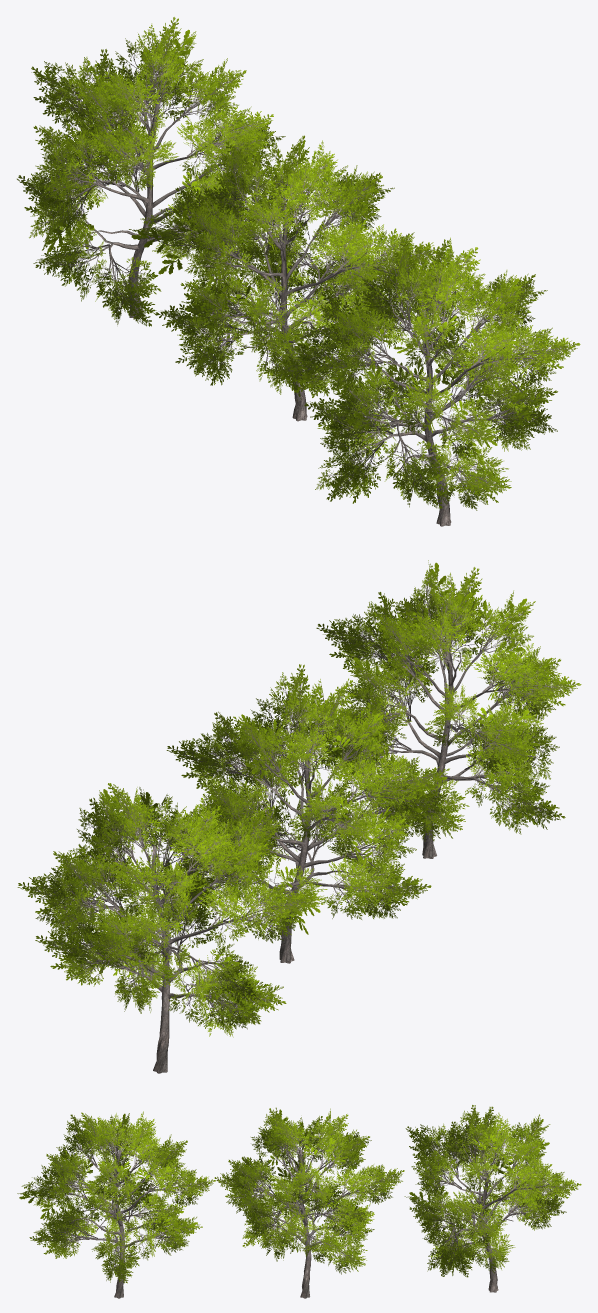
The model's file is oak.glb.
The picture shows the model from 3 angles, top to bottom: view 1: azimuth 30°, elevation 25°; view 2: azimuth 150°, elevation 25°; view 3: azimuth 270°, elevation 25°; orthographic projection. The views are drawn at different scales.
Visible parts, largest first — view 1: oak 3, oak 2, oak 1; view 2: oak 1, oak 2, oak 3; view 3: oak 3, oak 1, oak 2.
Part boxes in pixels (x1,y1,x2,y2): oak 3: (270,237,580,526); oak 2: (129,135,442,421); oak 1: (17,17,285,326); oak 1: (17,783,317,1073); oak 2: (158,664,450,963); oak 3: (315,560,581,858); oak 3: (17,1111,215,1298); oak 1: (388,1105,581,1292); oak 2: (196,1107,404,1298).
Bounding box in the file's own units: 57.67 × 58.4 × 162.
Materials: 3 (3 with a texture image).
